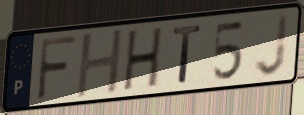5: (211, 18, 247, 82)
F: (34, 34, 79, 103)
H: (74, 26, 126, 102), (121, 24, 165, 95)
J: (253, 12, 291, 79)
T: (171, 22, 204, 86)
